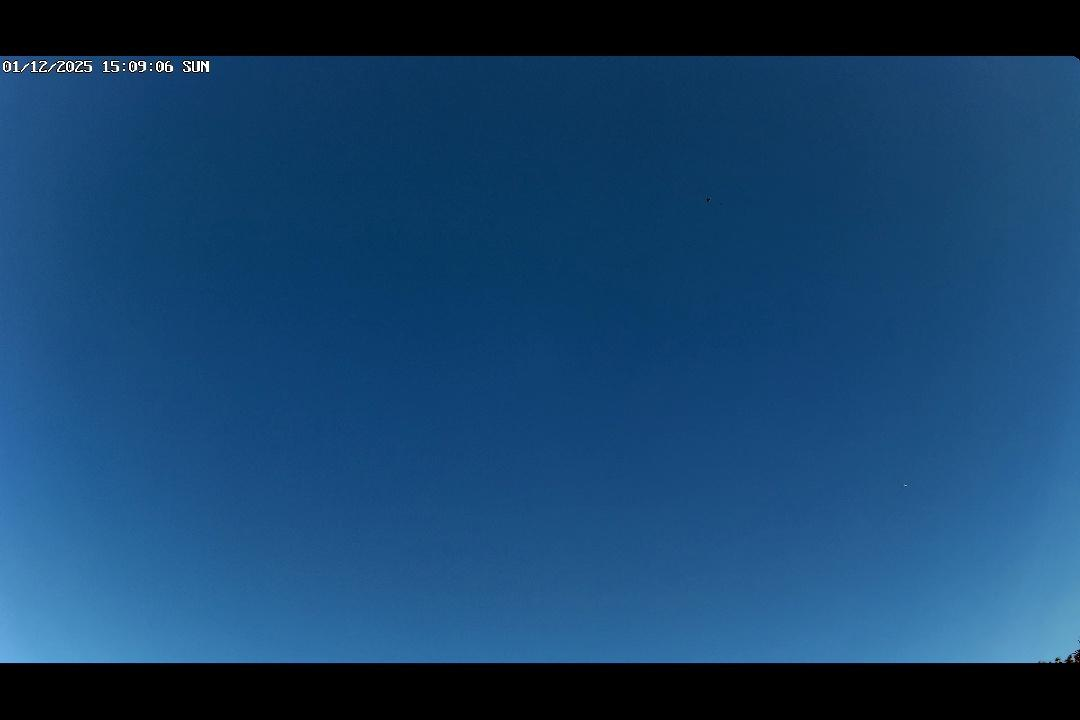WildLife: (696, 195, 719, 207)
